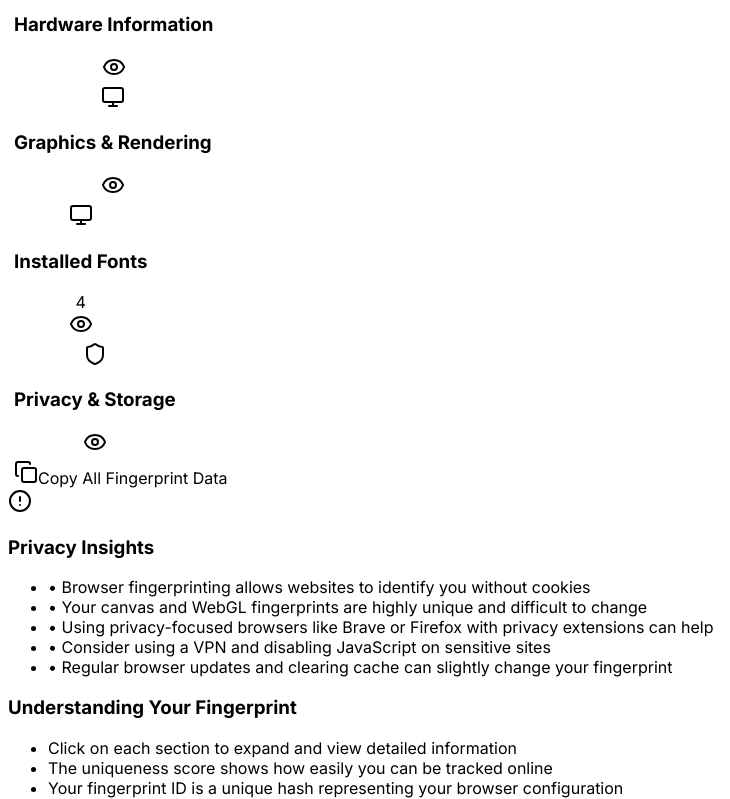
it: Browser Fingerprint Page - Component Tests › should display ad blocker status
(page scrolled)
Expected: the heading "Privacy & Storage" is shown, [14,388,176,411]
Click the button "Privacy & Storage".
click(95, 400)  # box [8,340,182,459]
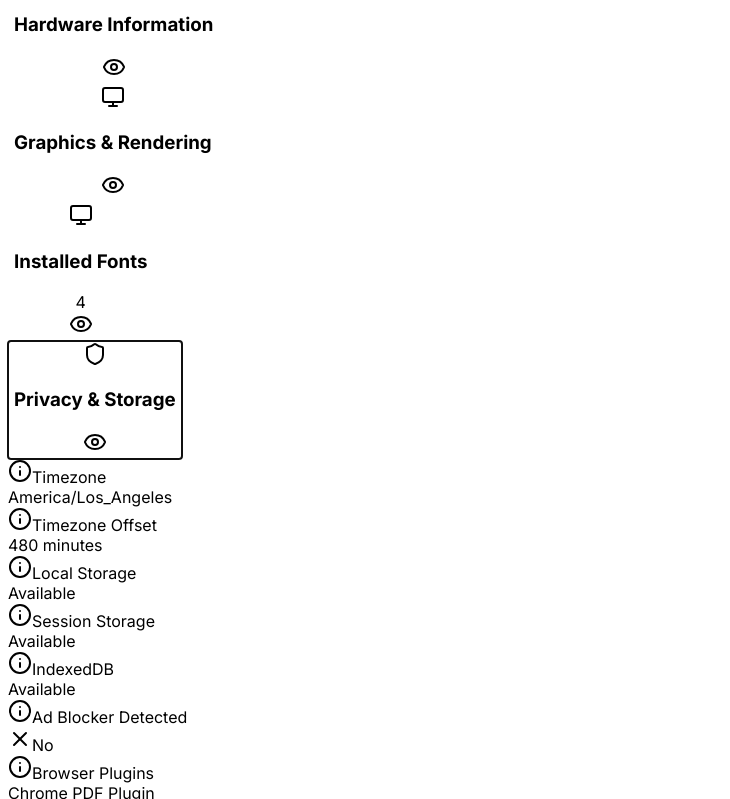
Expected: the text "Ad Blocker Detected" is shown, [32,707,187,727]
Expected: the text "No" is shown, [32,735,54,755]
